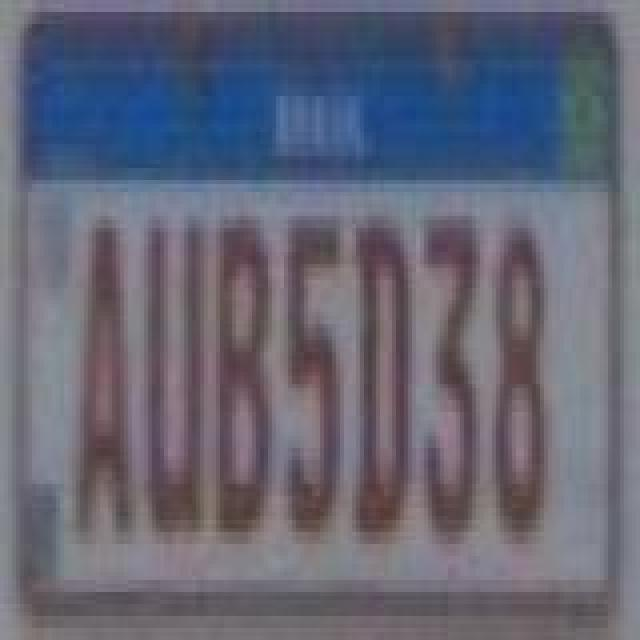3: (418, 206, 478, 546)
5: (282, 204, 342, 532)
8: (492, 216, 548, 544)
A: (76, 206, 132, 546)
B: (212, 212, 268, 540)
D: (354, 224, 414, 528)
U: (146, 212, 206, 540)
